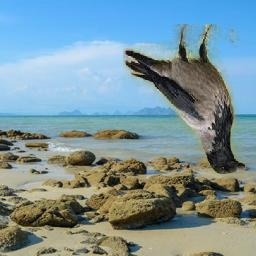Crow: (123, 24, 245, 174)
